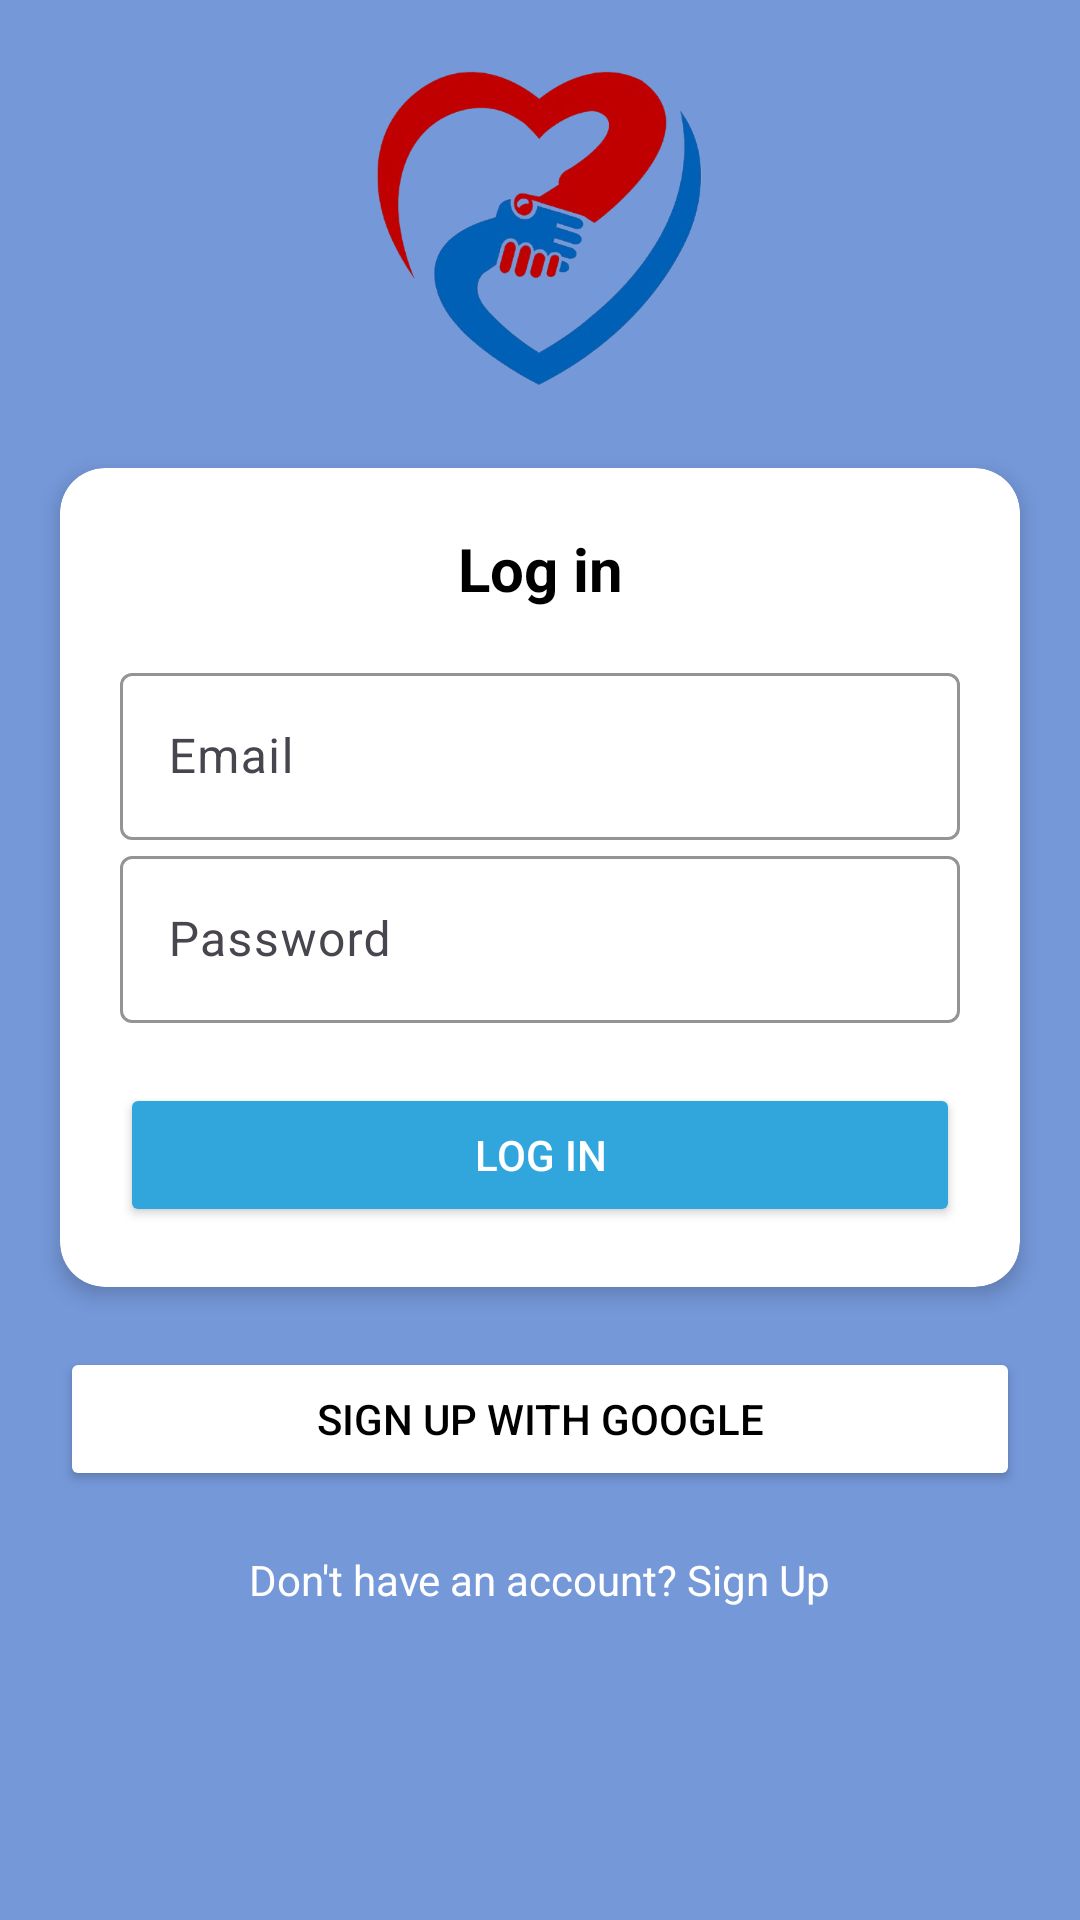

Named icons in this screenshot (1080 × 1920) and their bounding boxes, box(x1, y1, x2, y2):
hand heart: box(377, 72, 701, 385)
